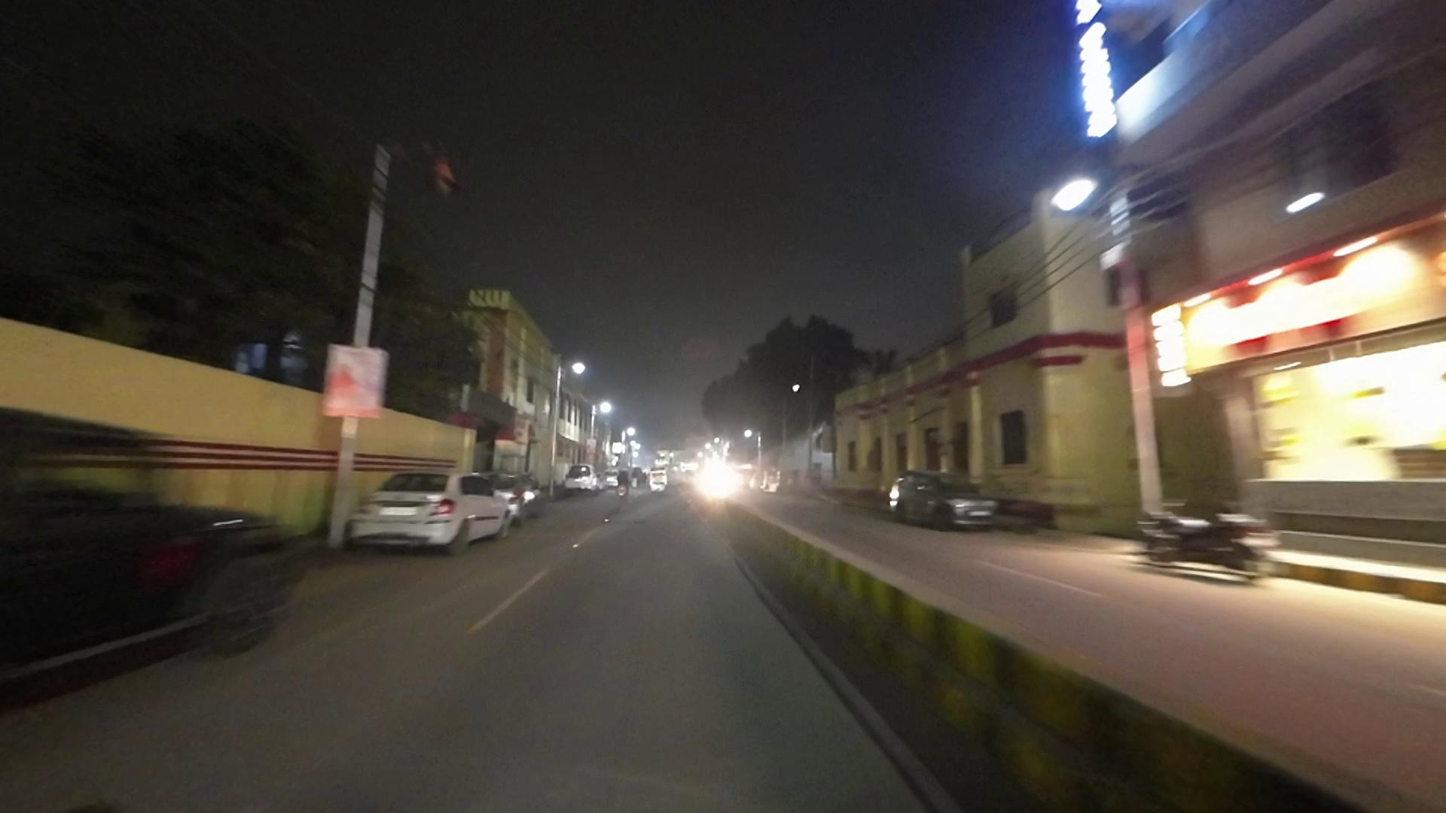streetlight: (416, 136, 461, 199)
